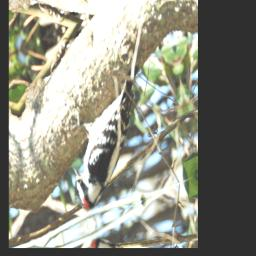Woodpecker: (61, 75, 151, 214)
